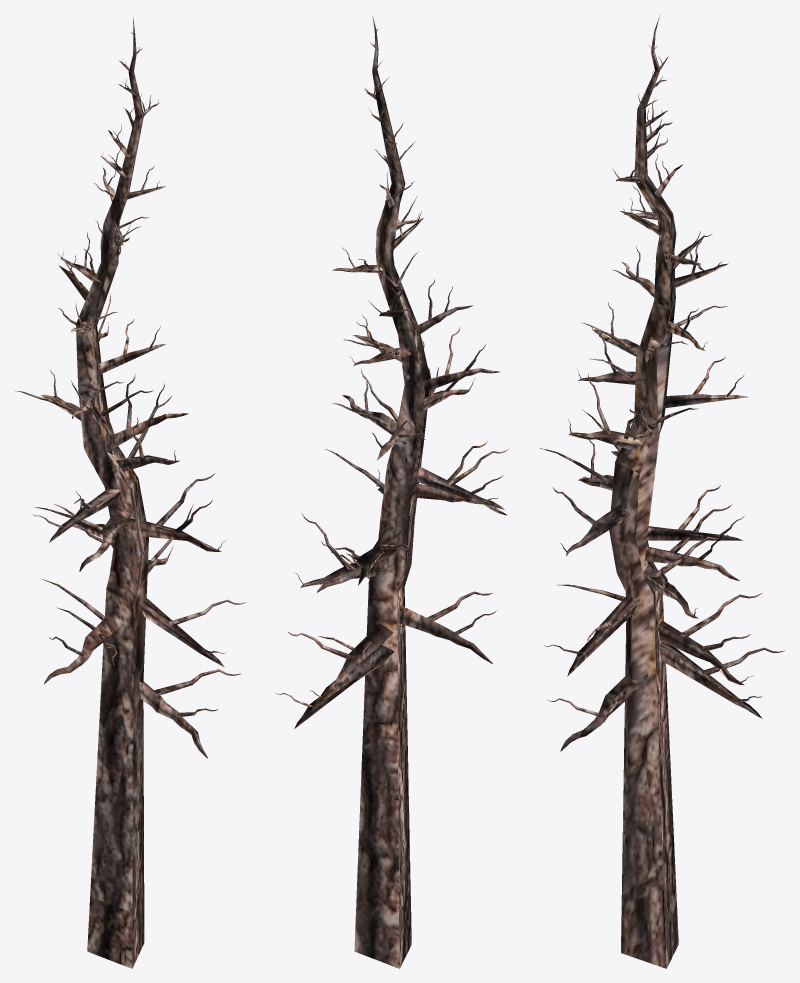
Rendered from TreeB1.fbx.
3 views of the same model, side by side, from view 1: azimuth 30°, elevation 25°; view 2: azimuth 150°, elevation 25°; view 3: azimuth 270°, elevation 25° (orthographic).
Parts seen in each view (by area): view 1: TreeB.001; view 2: TreeB.001; view 3: TreeB.001.
Part boxes in pixels (left/top/right/bottom): TreeB.001: left=15, top=17, right=246, bottom=968; TreeB.001: left=276, top=16, right=508, bottom=968; TreeB.001: left=539, top=15, right=784, bottom=968.
Size of the model in its own units: 282 by 1293 by 305.
